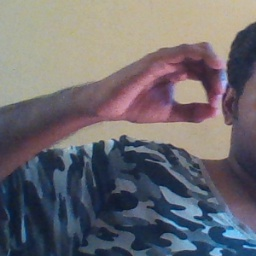O: (90, 37, 228, 129)
